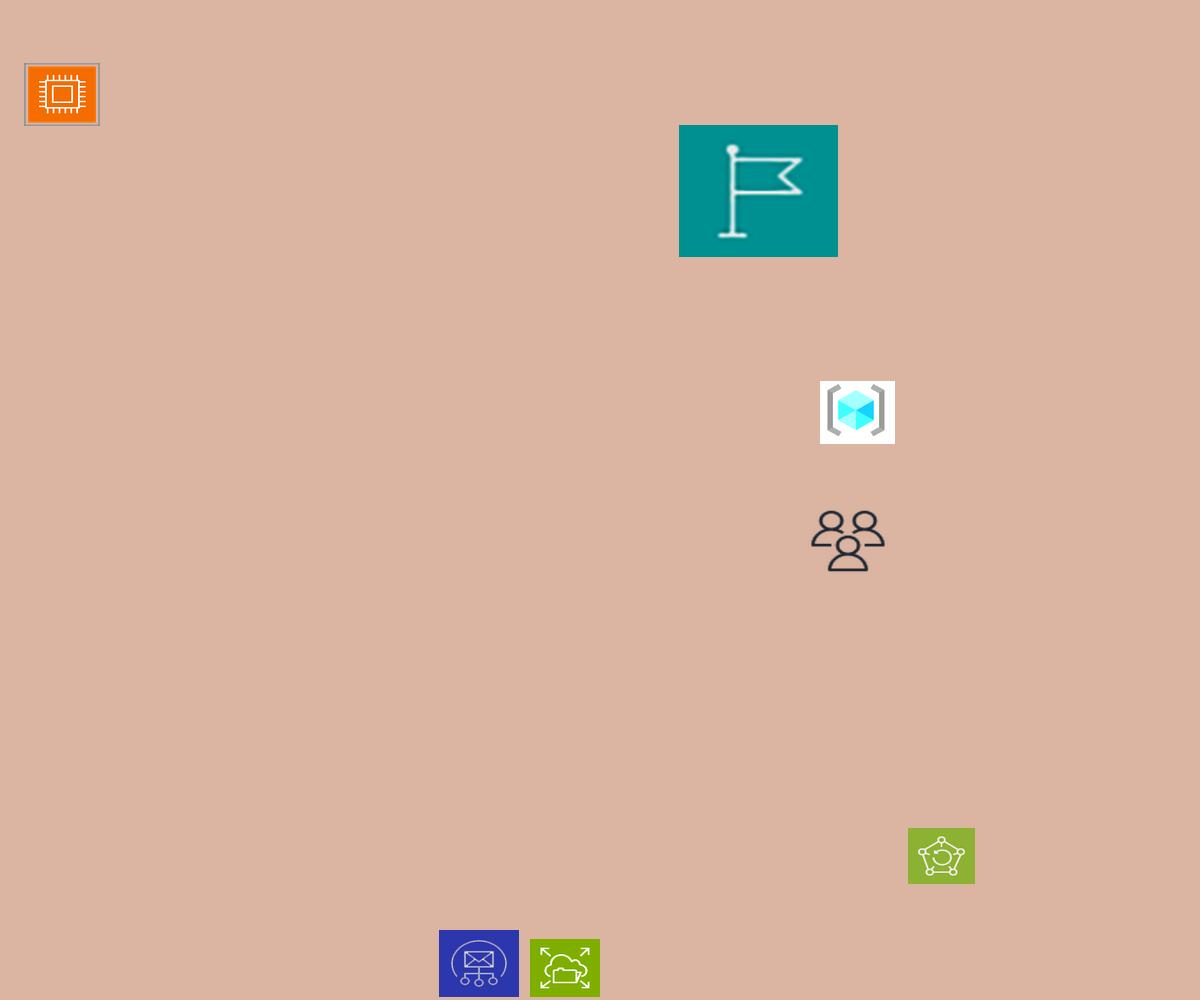AWS-Backup: (908, 828, 975, 884)
AWS-Category_Compute: (24, 63, 100, 126)
AWS-EFS: (530, 939, 600, 997)
AWS-Region: (679, 125, 838, 257)
AWS-Res_Users: (808, 508, 888, 574)
AWS-Simple-Email-Service: (439, 930, 519, 997)
Azure_resource_group: (820, 381, 895, 444)
